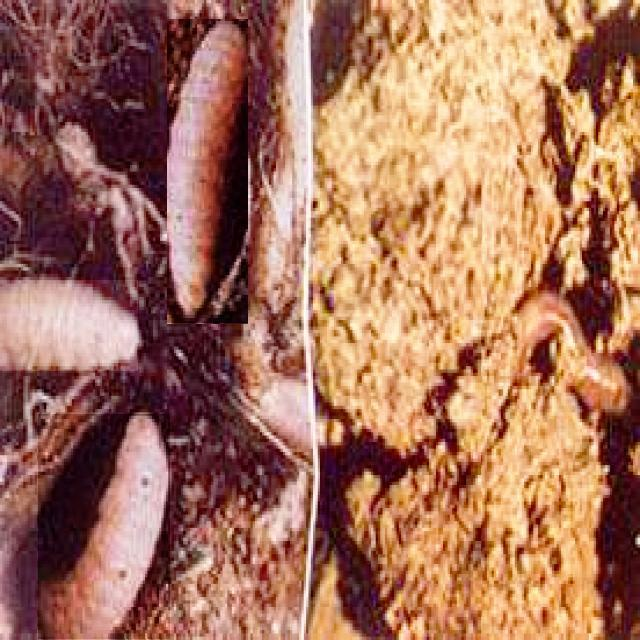whorl-maggot: (38, 414, 170, 640), (167, 19, 248, 323), (0, 281, 138, 371)
